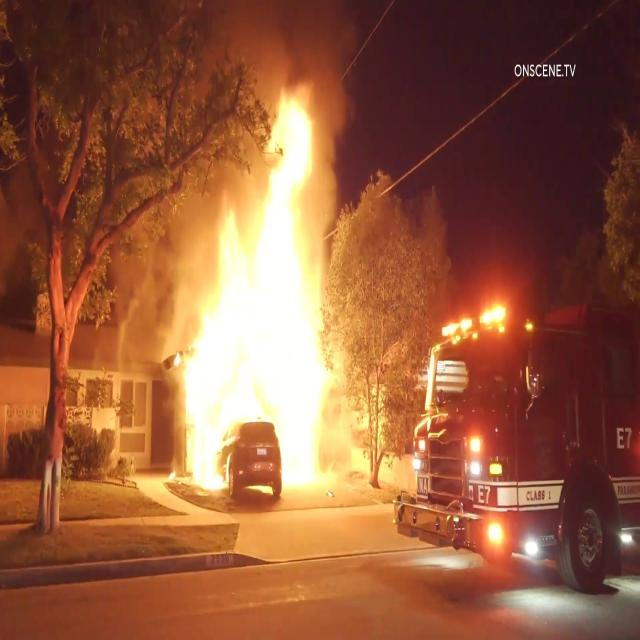fire: (195, 93, 334, 480)
smoke: (211, 3, 320, 84), (144, 238, 189, 346)
